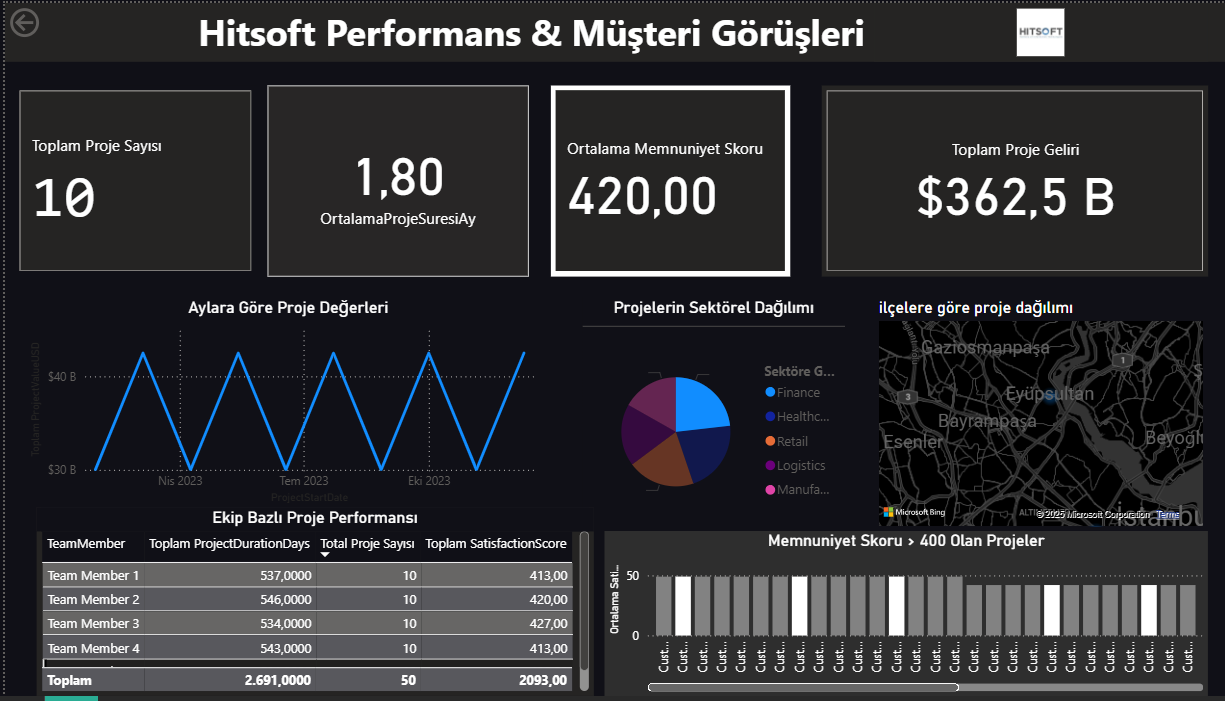

The dashboard page shown, as its layout file describes it:
{"tool":"powerbi","page":{"name":"1. sayfa","canvas":[1280,720],"ordinal":0},"visuals":[{"type":"textbox","box":[0,0,1280,61.4],"z":0},{"type":"cardVisual","fields":{"Data":["CountNonNull(Hitsoft_Power_BI_Sample_Dataset.ProjectID)"]},"box":[10,85.7,251.4,198.6],"z":1000},{"type":"actionButton","box":[0,0,100,40],"z":2000},{"type":"cardVisual","fields":{"Data":["Sum(Hitsoft_Power_BI_Sample_Dataset.SatisfactionScore)"]},"box":[567.1,85.7,248.6,198.6],"z":4000},{"type":"cardVisual","fields":{"Data":["Sum(Hitsoft_Power_BI_Sample_Dataset.ProjectValueUSD)"]},"box":[848.6,85.7,401.4,198.6],"z":5000},{"type":"lineChart","title":"Aylara Göre Proje Değerleri","fields":{"Y":["Sum(Hitsoft_Power_BI_Sample_Dataset.ProjectValueUSD)"],"Category":["Hitsoft_Power_BI_Sample_Dataset.ProjectStartDate"]},"box":[21.4,305.7,545.7,218.6],"z":6000},{"type":"pieChart","title":"Projelerin Sektörel Dağılımı","fields":{"Category":["Hitsoft_Power_BI_Sample_Dataset.Industry"],"Y":["Sum(Hitsoft_Power_BI_Sample_Dataset.ProjectValueUSD)"]},"box":[600,305.7,272.9,242.9],"z":7000},{"type":"map","title":"ilçelere göre proje dağılımı","fields":{"Category":["Hitsoft_Power_BI_Sample_Dataset.District"]},"box":[902.9,305.7,347.1,242.9],"z":8000},{"type":"tableEx","title":"Ekip Bazlı Proje Performansı","fields":{"Values":["Hitsoft_Power_BI_Sample_Dataset.TeamMember","Sum(Hitsoft_Power_BI_Sample_Dataset.ProjectDurationDays)","Count(Hitsoft_Power_BI_Sample_Dataset.Total Proje)","Sum(Hitsoft_Power_BI_Sample_Dataset.SatisfactionScore)"]},"box":[32.9,524.3,578.6,195.7],"z":9000},{"type":"image","box":[902.9,0,347.1,61.4],"z":10000},{"type":"clusteredColumnChart","title":" Memnuniyet Skoru > 400 Olan Projeler ","fields":{"Category":["Hitsoft_Power_BI_Sample_Dataset.CustomerName"],"Y":["Avg(Hitsoft_Power_BI_Sample_Dataset.SatisfactionScore)"]},"box":[622.9,548.6,627.1,171.4],"z":10001},{"type":"card","fields":{"Values":["Hitsoft_Power_BI_Sample_Dataset.OrtalamaProjeSuresiAy"]},"box":[272.9,85.7,271.4,198.6],"z":10002}]}

Visuals, with their boxes in screenshot pixels (x1, y1, x2, y2), scaled from the page's 1280x720 canvas onto the 1225x701 screenshot:
textbox: 0/0/1224/60
cardVisual - CountNonNull(Hitsoft_Power_BI_Sample_Dataset.ProjectID): 10/83/250/277
actionButton: 0/0/96/39
cardVisual - Sum(Hitsoft_Power_BI_Sample_Dataset.SatisfactionScore): 543/83/781/277
cardVisual - Sum(Hitsoft_Power_BI_Sample_Dataset.ProjectValueUSD): 812/83/1196/277
"Aylara Göre Proje Değerleri" lineChart: 20/298/543/510
"Projelerin Sektörel Dağılımı" pieChart: 574/298/835/534
"ilçelere göre proje dağılımı" map: 864/298/1196/534
"Ekip Bazlı Proje Performansı" tableEx: 31/510/585/700
image: 864/0/1196/60
" Memnuniyet Skoru > 400 Olan Projeler " clusteredColumnChart: 596/534/1196/700
card - Hitsoft_Power_BI_Sample_Dataset.OrtalamaProjeSuresiAy: 261/83/521/277
